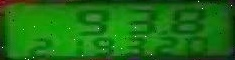-: (157, 27, 167, 33)
0: (184, 35, 210, 55)
1: (71, 36, 83, 57)
2: (151, 35, 177, 55), (27, 36, 53, 55)
3: (121, 6, 154, 33), (119, 35, 144, 56)
8: (169, 6, 205, 33)
9: (73, 7, 106, 34), (88, 35, 114, 56)
